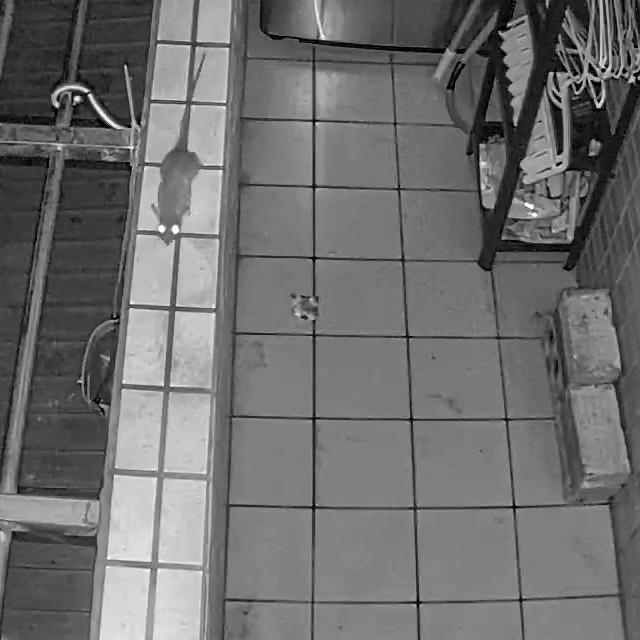rat: (150, 51, 208, 248)
